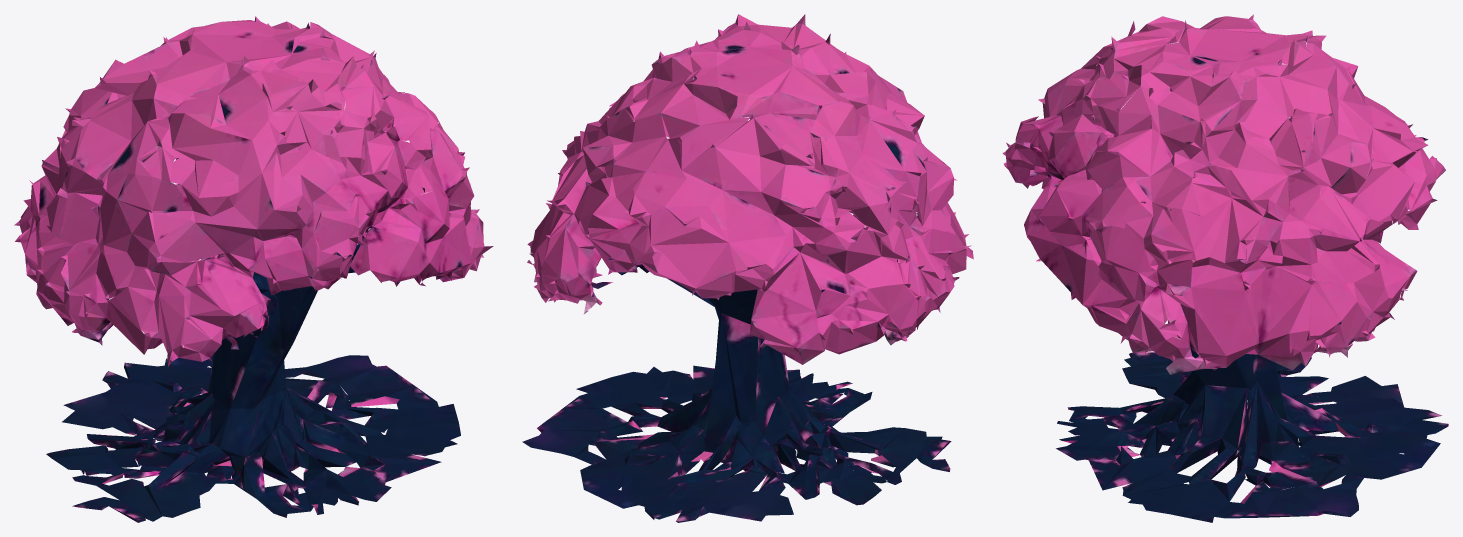
File: yggdrasil-world-tree-merged-2026-04-25t02-07-36-925z-generated-2026-04-25T02-24-40-321Z.low.glb
The picture shows the model from 3 angles, left to right: view 1: azimuth 30°, elevation 25°; view 2: azimuth 150°, elevation 25°; view 3: azimuth 270°, elevation 25°; orthographic projection. The views are drawn at different scales.
Visible parts, largest first — view 1: temp_mesh.ply; view 2: temp_mesh.ply; view 3: temp_mesh.ply.
Boxes of the visible parts, box(x1,y1,x2,y2) form: temp_mesh.ply: box(14, 16, 493, 522); temp_mesh.ply: box(522, 14, 973, 522); temp_mesh.ply: box(1002, 14, 1448, 522).
Bounding box in the file's own units: 1.96 × 1.95 × 1.95.
Materials: 1 (1 with a texture image).
